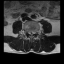CCS_stenosis: (30, 31, 32, 37)
LFS_normal: (33, 30, 35, 34)
LLS_normal: (32, 30, 34, 36)
RFS_stenosis: (27, 30, 29, 34)
RLS_normal: (29, 30, 30, 36)
